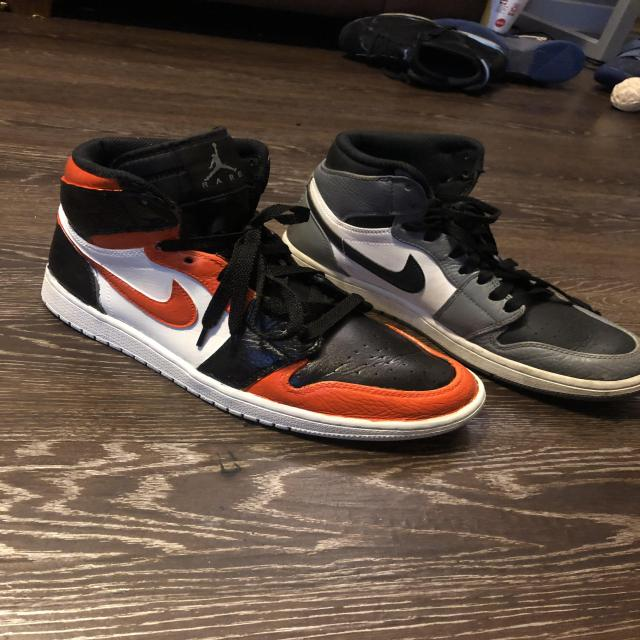shoe: (42, 126, 485, 446), (278, 129, 640, 403)
